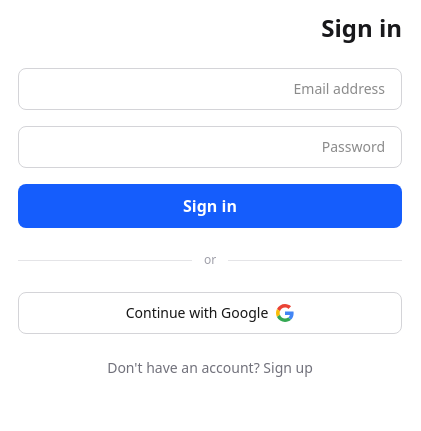
AuthForm › clears error message when switching mode
In the field labelled "Email address": (210, 89) [18,68,402,110], type "bad@example.com"
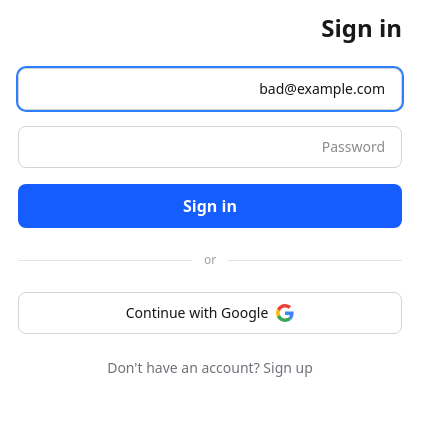
In the password field labelled "Password": (210, 147) [18,126,402,168], type "wrongpass"
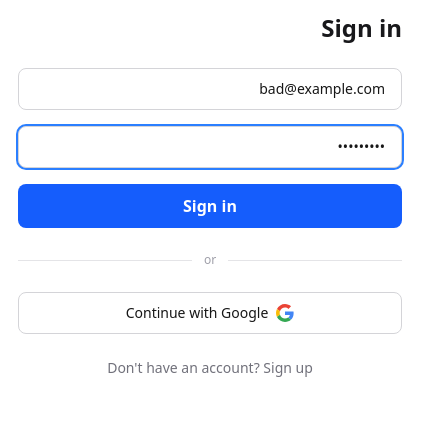
Click the button "Sign in": (210, 206) [18,184,402,228]
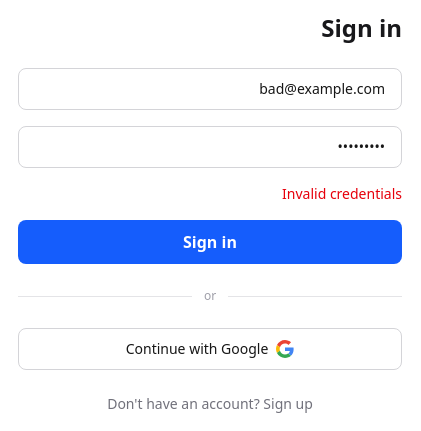
Result: the message "Invalid credentials" is shown at [282,184,402,203]
# Switch mode → error should disappear
Click the button "Don't have an account? Sign up": (210, 404) [18,394,402,414]
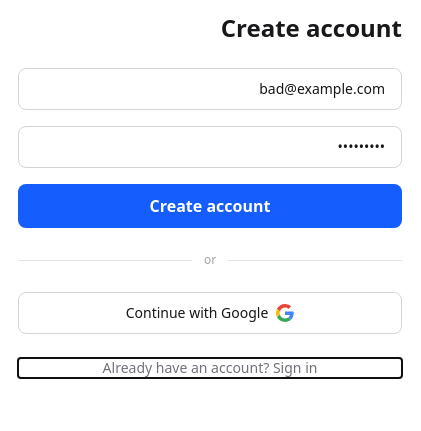
Result: the message "Invalid credentials" is gone
